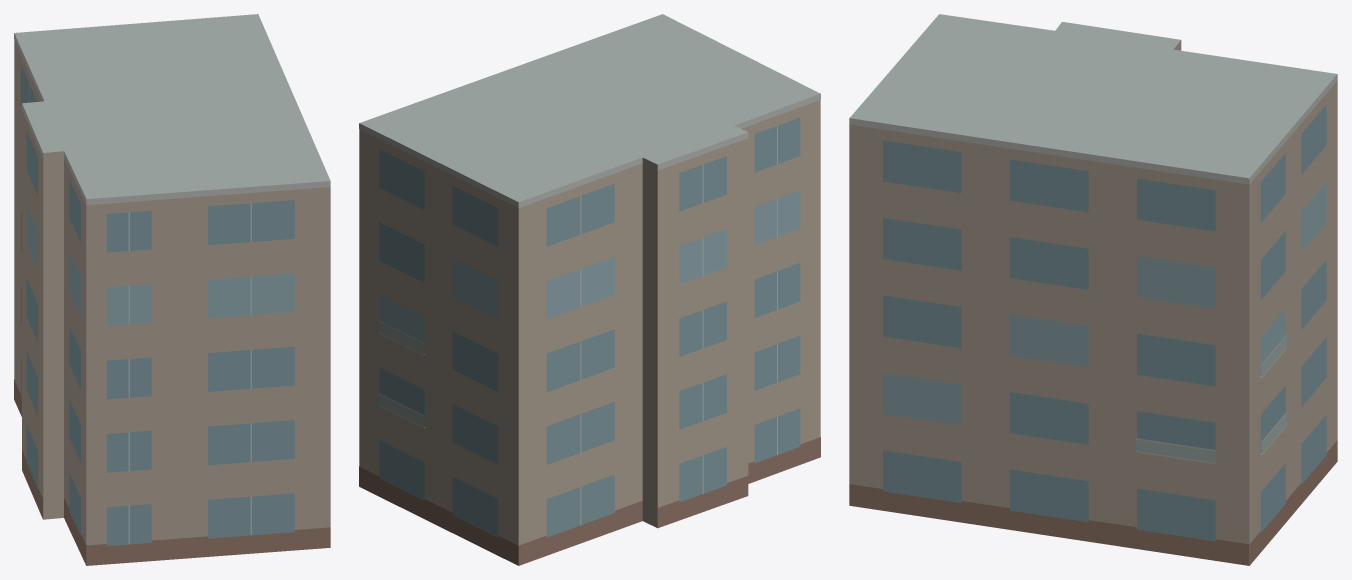
File: survey-upis-32990431.glb
3 views of the same model, side by side, from view 1: azimuth 30°, elevation 25°; view 2: azimuth 150°, elevation 25°; view 3: azimuth 270°, elevation 25° (orthographic). The views are drawn at different scales.
Parts seen in each view (by area): view 1: survey-upis-32990431.tmp; view 2: survey-upis-32990431.tmp; view 3: survey-upis-32990431.tmp.
Part boxes in pixels (x1,y1,x2,y2): survey-upis-32990431.tmp: (14, 14, 330, 565); survey-upis-32990431.tmp: (359, 14, 820, 565); survey-upis-32990431.tmp: (849, 14, 1337, 565).
Bounding box in the file's own units: 13.55 × 14.89 × 17.
